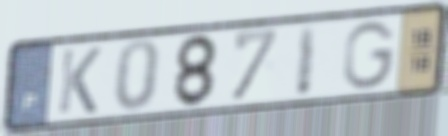0: (108, 37, 166, 116)
7: (231, 27, 280, 106)
8: (171, 32, 220, 109)
G: (342, 19, 400, 92)
I: (293, 21, 320, 100)
K: (55, 45, 104, 116)
